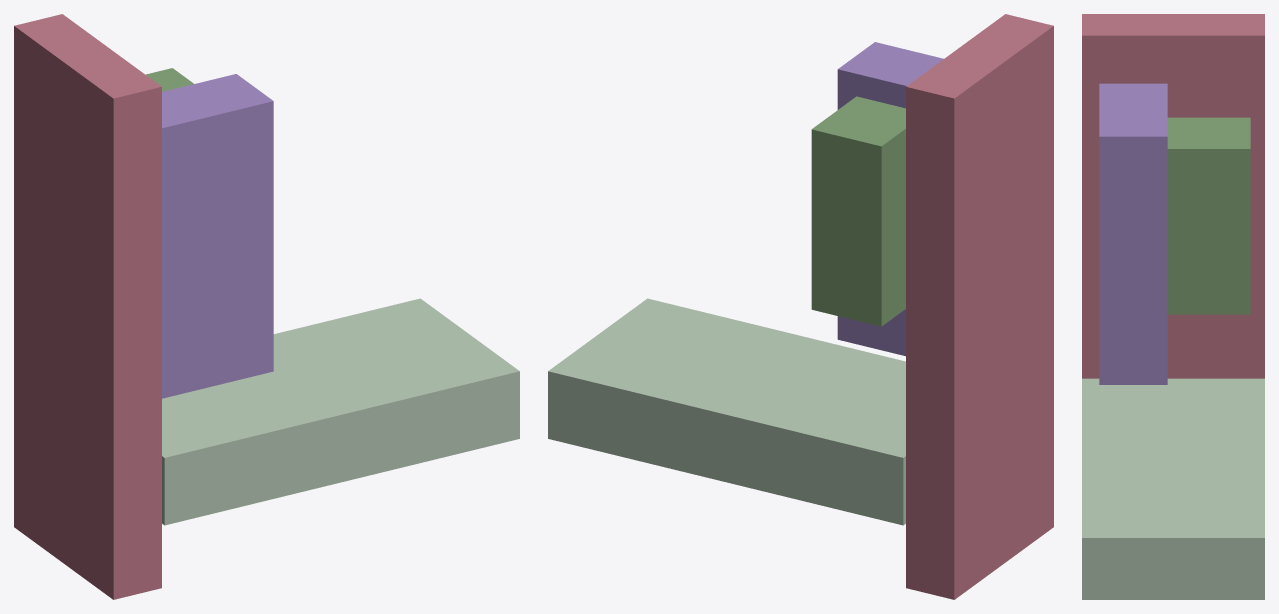
Rendered from 199514_pred.glb.
3 renders of one model, left to right at view 1: azimuth 30°, elevation 25°; view 2: azimuth 150°, elevation 25°; view 3: azimuth 270°, elevation 25°, orthographic. The views are drawn at different scales.
Visible parts, largest first — view 1: world; view 2: world; view 3: world.
Boxes of the visible parts, x1=… form: world: x1=14, y1=14, x2=519, y2=599; world: x1=548, y1=14, x2=1053, y2=599; world: x1=1082, y1=14, x2=1264, y2=599.
Size of the model in its own units: 7.55 by 8.9 by 3.2.
